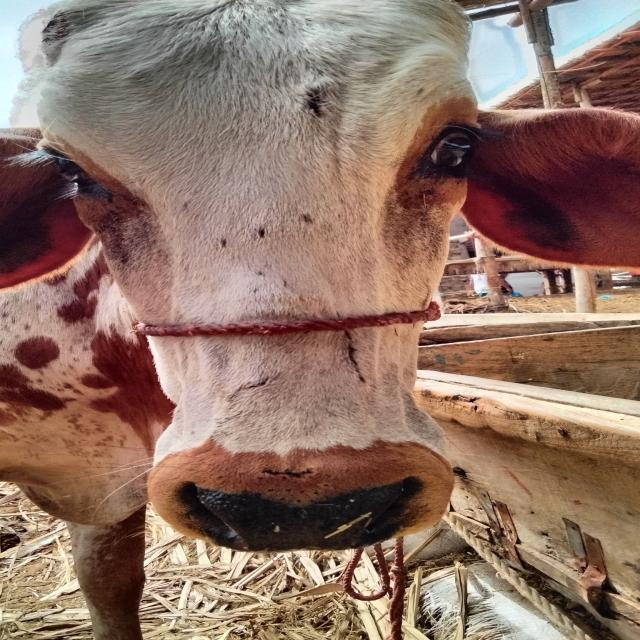muzzles: (160, 470, 425, 556)
